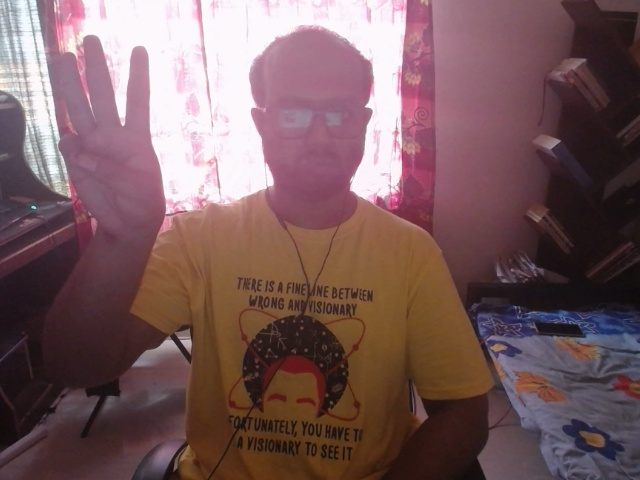three: (39, 17, 222, 201)
